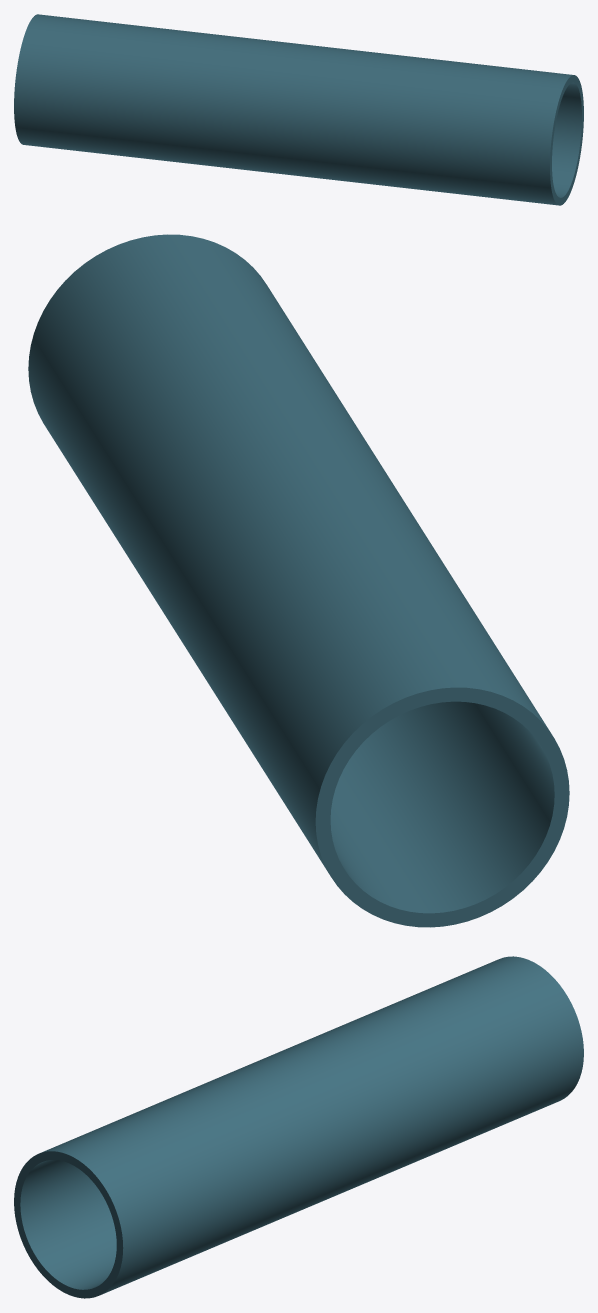
File: Arm_Cover_4.fbx
3 views of the same model, one above another, from view 1: azimuth 30°, elevation 25°; view 2: azimuth 150°, elevation 25°; view 3: azimuth 270°, elevation 25° (orthographic). The views are drawn at different scales.
Parts seen in each view (by area): view 1: COVER_12in_RR_Tube_Full; view 2: COVER_12in_RR_Tube_Full; view 3: COVER_12in_RR_Tube_Full.
Part boxes in pixels (left/top/right/bottom): COVER_12in_RR_Tube_Full: left=14, top=14, right=583, bottom=205; COVER_12in_RR_Tube_Full: left=28, top=234, right=569, bottom=927; COVER_12in_RR_Tube_Full: left=14, top=956, right=583, bottom=1298.
Bounding box in the file's own units: 6.28 × 1.7 × 6.28.
